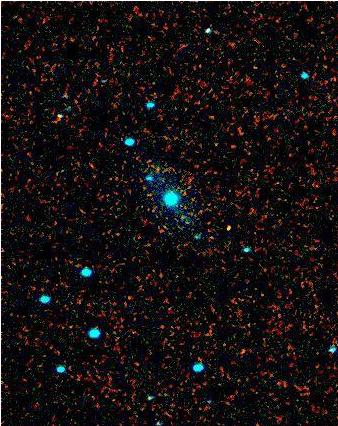star: (213, 213, 243, 243)
